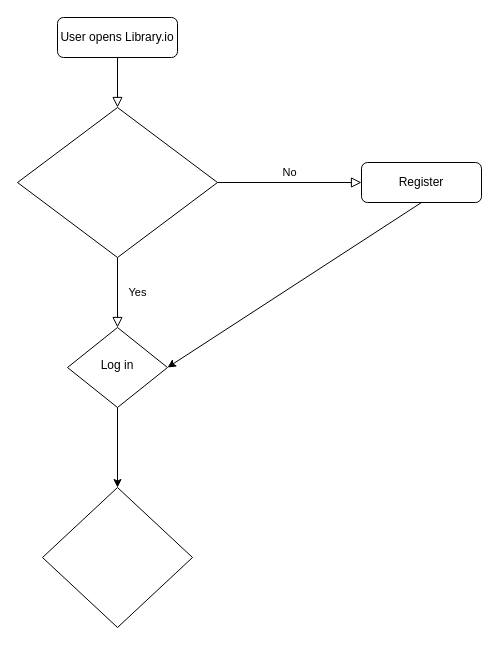
The diagram is 499 pixels wide and 645 high, and some of its shapes have lost their labels. The centre of each missing label's shape, as x and y in pixels:
Does the user have an account?: [117,182]
Library.io: [117,557]
